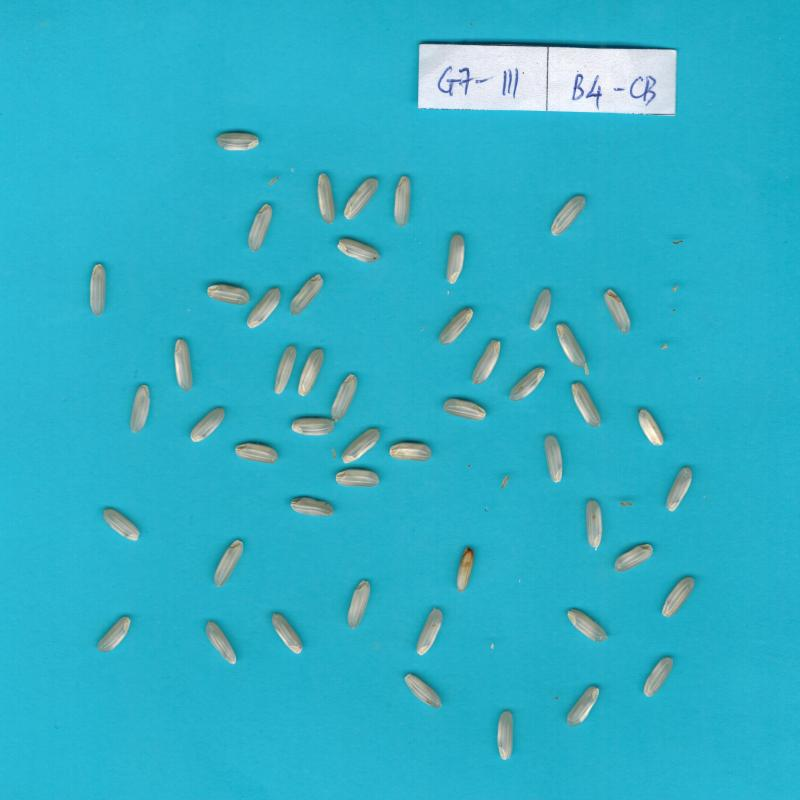Inferior: (638, 409, 664, 446), (457, 547, 474, 593)
Rice: (551, 196, 586, 236), (344, 178, 378, 219), (290, 274, 323, 316), (342, 428, 380, 464), (214, 540, 243, 587), (566, 686, 599, 727), (662, 577, 695, 618), (247, 288, 280, 328), (404, 674, 442, 708), (568, 609, 607, 642), (206, 622, 236, 664), (472, 340, 500, 385), (572, 382, 600, 427), (439, 308, 473, 345), (556, 324, 585, 367), (509, 367, 545, 401), (331, 375, 357, 422), (604, 289, 631, 334), (272, 614, 302, 654), (416, 609, 442, 655), (298, 349, 323, 396), (190, 408, 224, 442), (248, 204, 272, 252), (104, 509, 140, 541), (98, 617, 130, 653), (666, 467, 692, 511), (644, 657, 673, 696), (348, 580, 370, 629), (615, 544, 653, 572), (337, 239, 380, 263), (275, 346, 296, 394), (529, 289, 551, 331), (174, 340, 192, 391), (317, 173, 335, 224), (131, 385, 150, 433), (235, 443, 278, 464), (447, 234, 465, 284), (444, 399, 486, 420), (207, 285, 249, 305), (394, 176, 410, 227), (545, 435, 562, 483), (291, 497, 333, 516), (389, 442, 431, 461), (90, 264, 105, 316), (216, 133, 259, 151), (497, 711, 513, 759), (292, 418, 334, 436), (586, 500, 602, 547), (336, 470, 379, 487)
